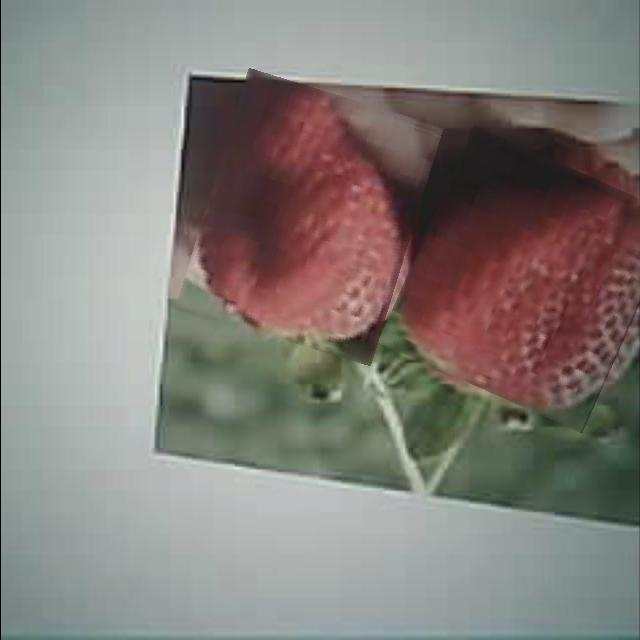strawberry: (397, 142, 640, 415), (191, 80, 427, 354)
